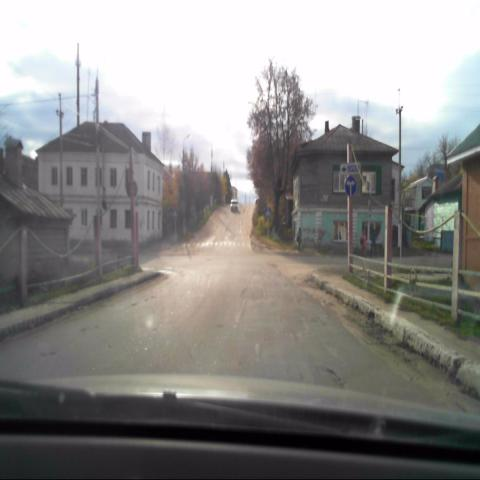4_1_6: (344, 176, 358, 198)
